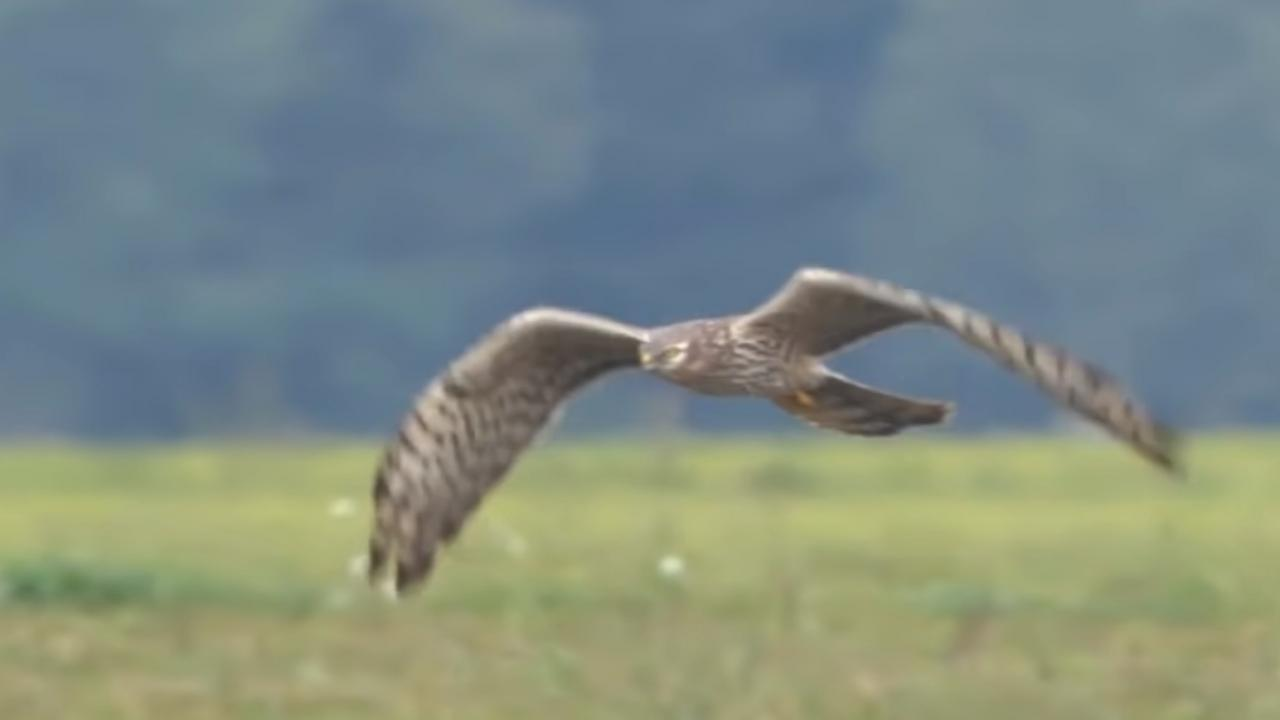Bird: (353, 257, 1201, 614)
